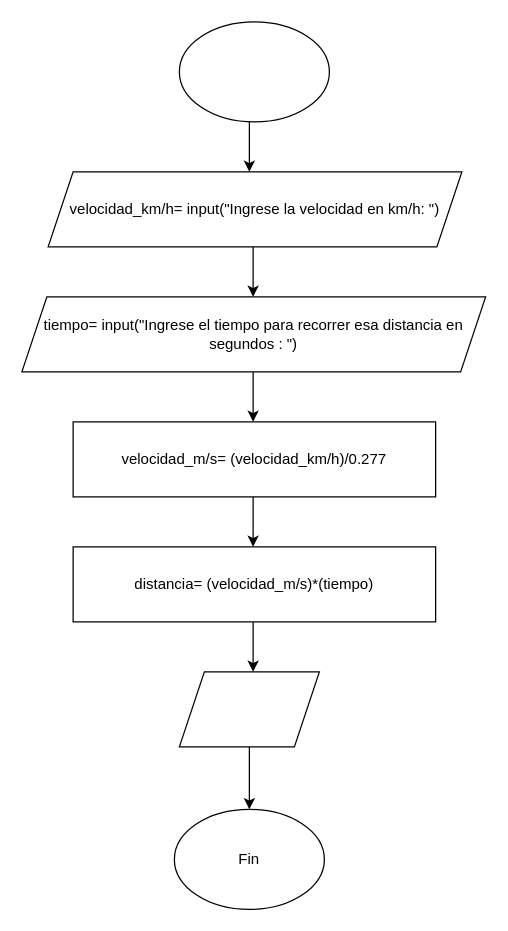
Image size: 508x931. Some labels were removed from this diagram. Here are the shapes that lost their labels. From the top down, the centre of each, then its label:
(253,71): INICIO
(248,709): print(distancia)
